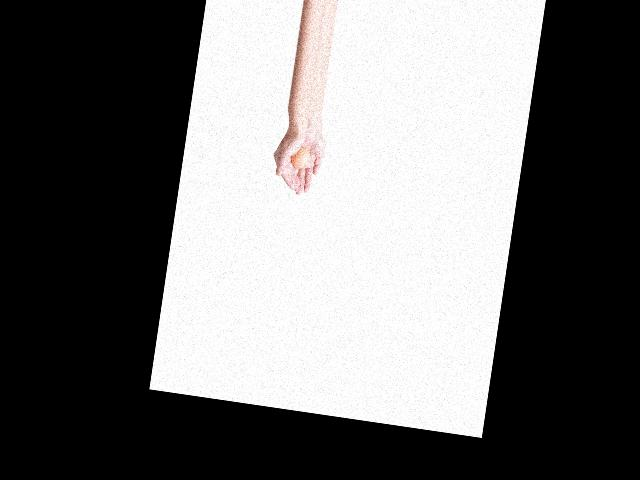egg: (289, 146, 310, 169)
